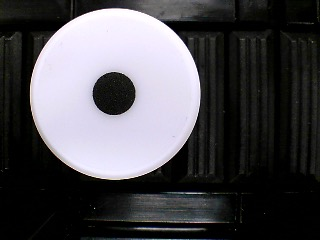BOHO: (28, 7, 202, 180)
